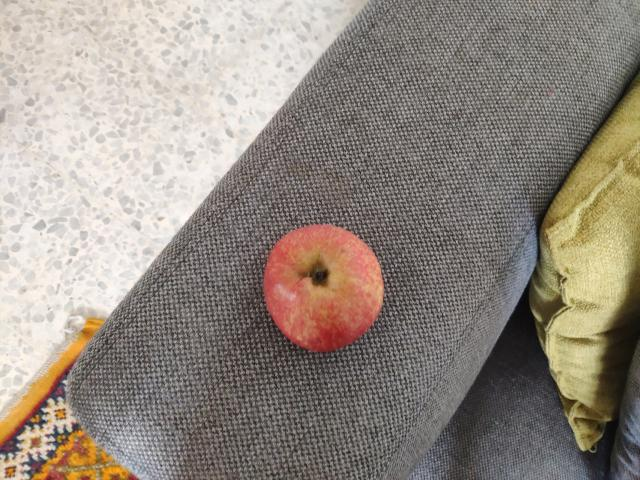apple: (255, 231, 399, 364)
